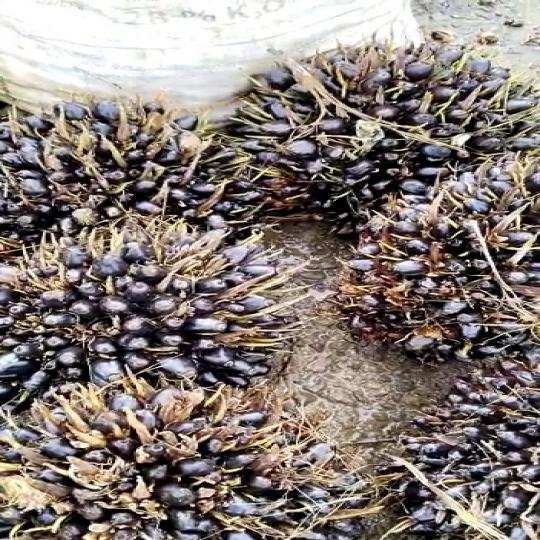mentah: (0, 209, 341, 400), (0, 375, 374, 539), (219, 36, 540, 222), (318, 132, 540, 370), (4, 97, 287, 237), (371, 343, 535, 540)
